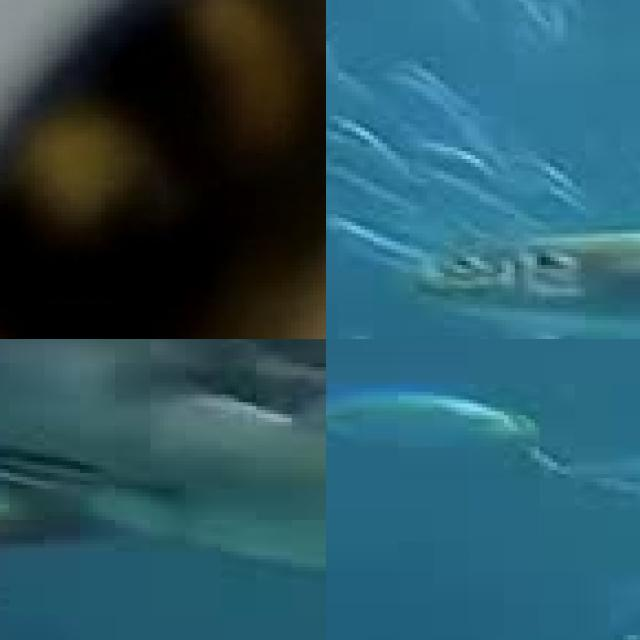fish: (0, 0, 326, 339), (365, 206, 640, 339)
